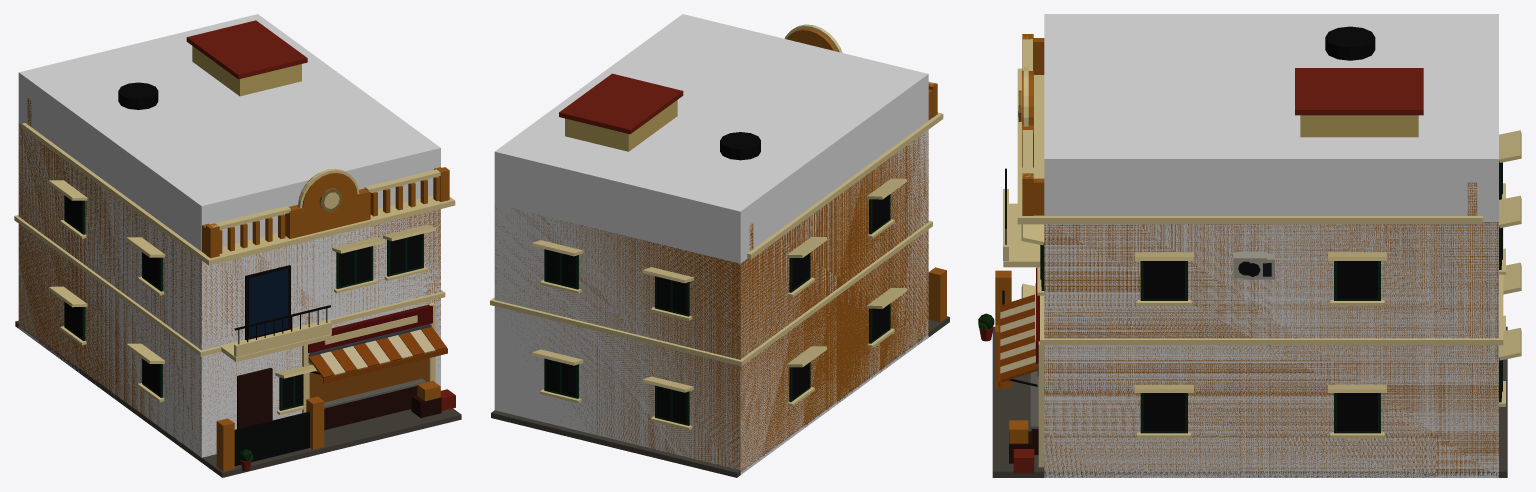
File: B09_house_with_shop.glb
3 views of the same model, side by side, from view 1: azimuth 30°, elevation 25°; view 2: azimuth 150°, elevation 25°; view 3: azimuth 270°, elevation 25° (orthographic). The views are drawn at different scales.
Visible parts, largest first — view 1: COL_Main, LOD0; view 2: COL_Main, LOD0; view 3: COL_Main, LOD0.
Boxes of the visible parts, <box> form: COL_Main: <box>18,14,440,457</box>; LOD0: <box>14,20,461,477</box>; COL_Main: <box>494,14,928,474</box>; LOD0: <box>490,24,949,477</box>; COL_Main: <box>1044,14,1498,477</box>; LOD0: <box>978,26,1521,477</box>.
Size of what is drawn, in the model's own units: 9.05 by 8.96 by 12.66.
